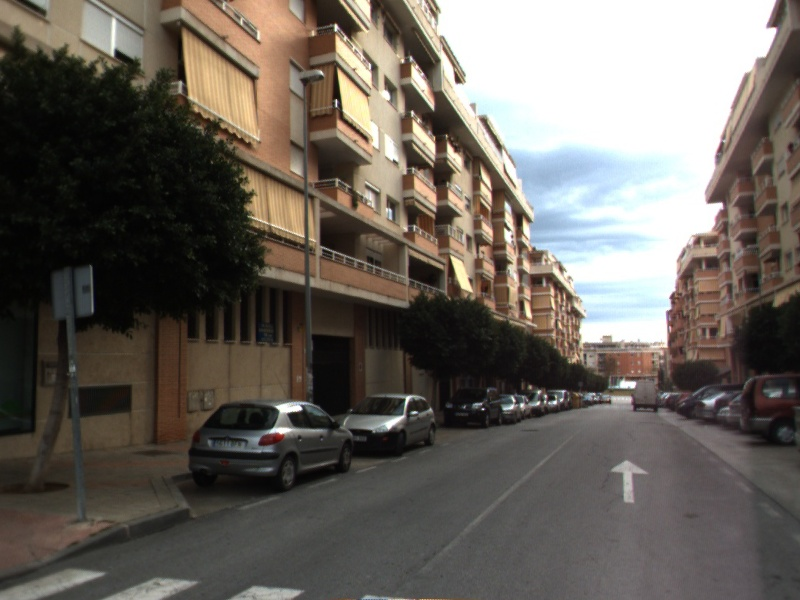STRAIGHT: (608, 458, 651, 504)
